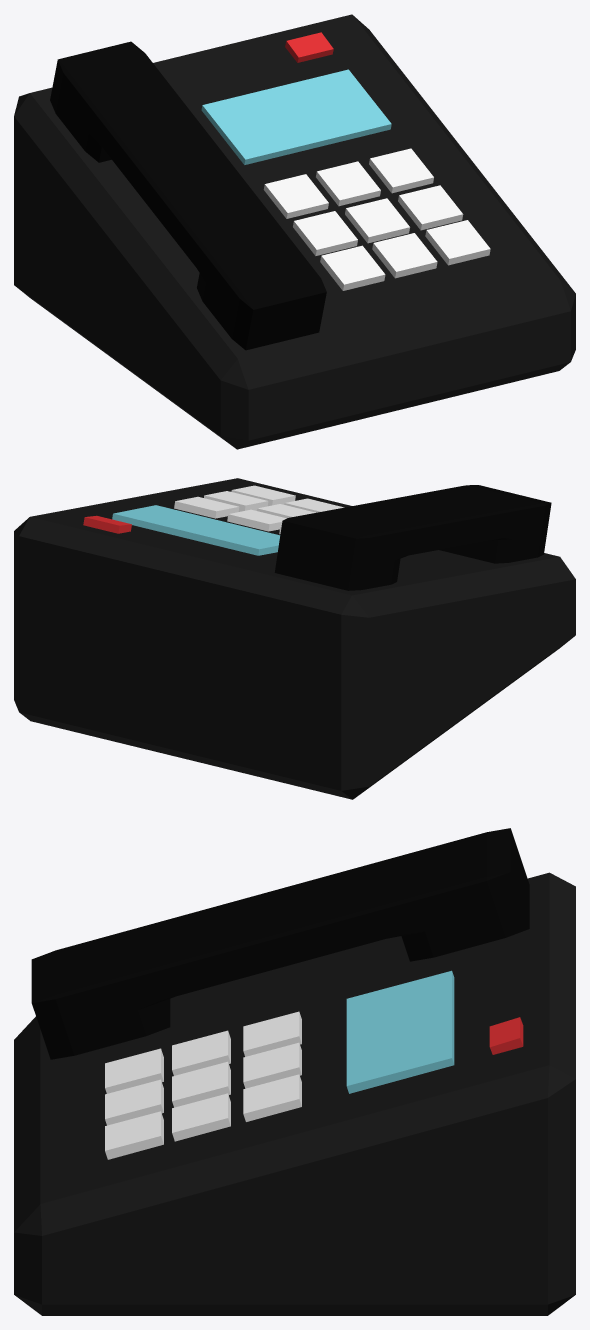
Rendered from phone.fbx.
The picture shows the model from 3 angles, top to bottom: view 1: azimuth 30°, elevation 25°; view 2: azimuth 150°, elevation 25°; view 3: azimuth 270°, elevation 25°; orthographic projection. The views are drawn at different scales.
Parts seen in each view (by area): view 1: Cube, Cube.001, Cube.002, Cube.012, Cube.013, Cube.011, Cube.003, Cube.005, Cube.004, Cube.008, Cube.010, Cube.009 (+1 smaller); view 2: Cube, Cube.001, Cube.002, Cube.009, Cube.008, Cube.003, Cube.012, redLight, Cube.005, Cube.011; view 3: Cube, Cube.001, Cube.002, Cube.012, Cube.003, Cube.009, Cube.011, Cube.005, Cube.008, Cube.013, Cube.010, Cube.004 (+1 smaller).
Boxes of the visible parts, left/top/right/bottom form: Cube: left=14, top=14, right=575, bottom=449; Cube.001: left=50, top=41, right=326, bottom=350; Cube.002: left=201, top=69, right=391, bottom=164; Cube.012: left=425, top=220, right=490, bottom=265; Cube.013: left=320, top=245, right=385, bottom=290; Cube.011: left=372, top=233, right=437, bottom=278; Cube.003: left=398, top=185, right=463, bottom=230; Cube.005: left=345, top=198, right=409, bottom=243; Cube.004: left=293, top=211, right=357, bottom=255; Cube.008: left=316, top=161, right=380, bottom=206; Cube.010: left=263, top=174, right=328, bottom=218; Cube.009: left=369, top=148, right=433, bottom=193; Cube: left=14, top=478, right=575, bottom=799; Cube.001: left=274, top=485, right=551, bottom=590; Cube.002: left=112, top=505, right=280, bottom=555; Cube.009: left=174, top=496, right=239, bottom=518; Cube.008: left=227, top=509, right=286, bottom=531; Cube.003: left=204, top=491, right=268, bottom=511; Cube.012: left=231, top=485, right=295, bottom=506; redLight: left=83, top=515, right=131, bottom=533; Cube.005: left=257, top=504, right=315, bottom=518; Cube.011: left=284, top=498, right=344, bottom=512; Cube: left=14, top=872, right=575, bottom=1315; Cube.001: left=31, top=828, right=529, bottom=1059; Cube.002: left=346, top=970, right=454, bottom=1093; Cube.012: left=105, top=1111, right=163, bottom=1159; Cube.003: left=172, top=1093, right=230, bottom=1141; Cube.009: left=243, top=1074, right=301, bottom=1121; Cube.011: left=105, top=1079, right=163, bottom=1125; Cube.005: left=172, top=1061, right=230, bottom=1107; Cube.008: left=243, top=1042, right=301, bottom=1088; Cube.013: left=105, top=1048, right=163, bottom=1093; Cube.010: left=243, top=1011, right=301, bottom=1056; Cube.004: left=172, top=1030, right=230, bottom=1075.
Bounding box in the file's own units: 215 × 143 × 241.
